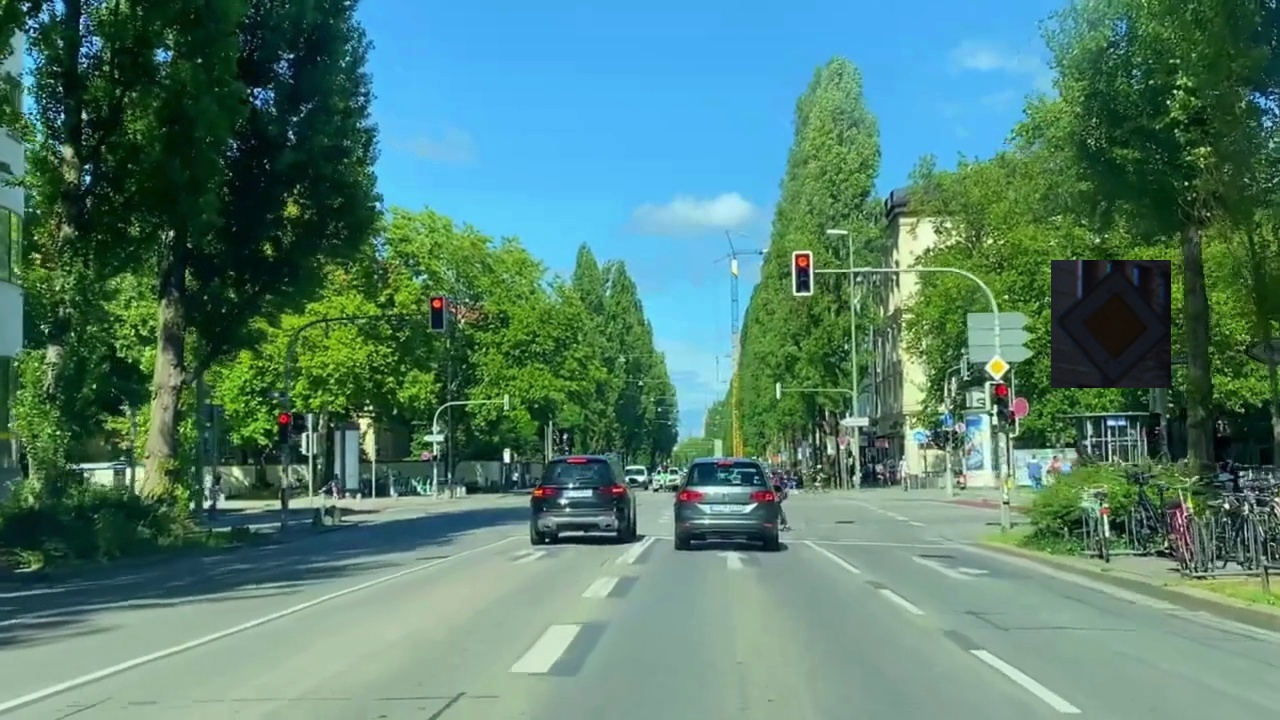Priority road: (1051, 260, 1171, 388)
